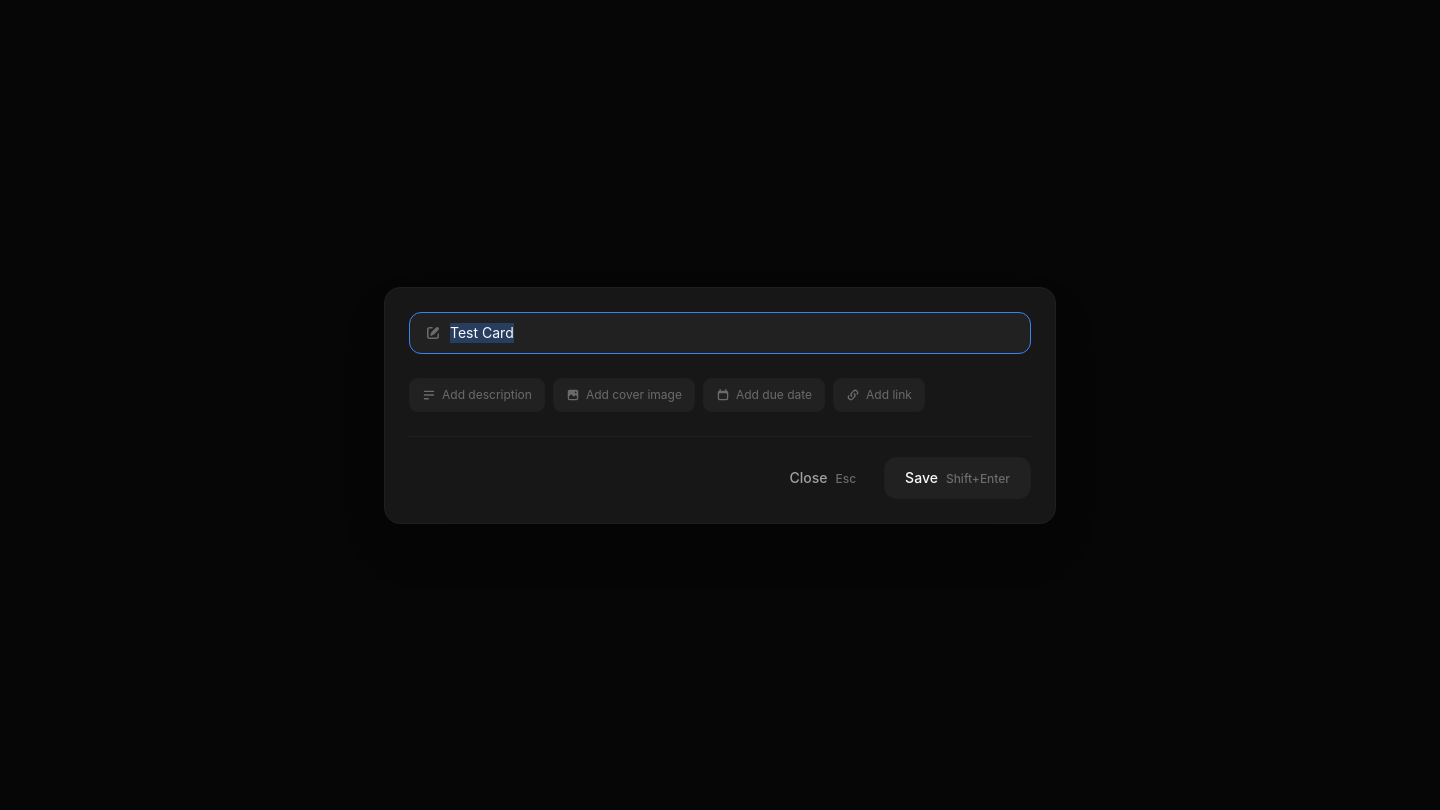
CardModal - markdown description › shows the editor immediately for a card with an empty description
Note: Expand the description field via its "Add description" button.
Click the button "Add description".
click(477, 394)  # box [409, 378, 545, 412]
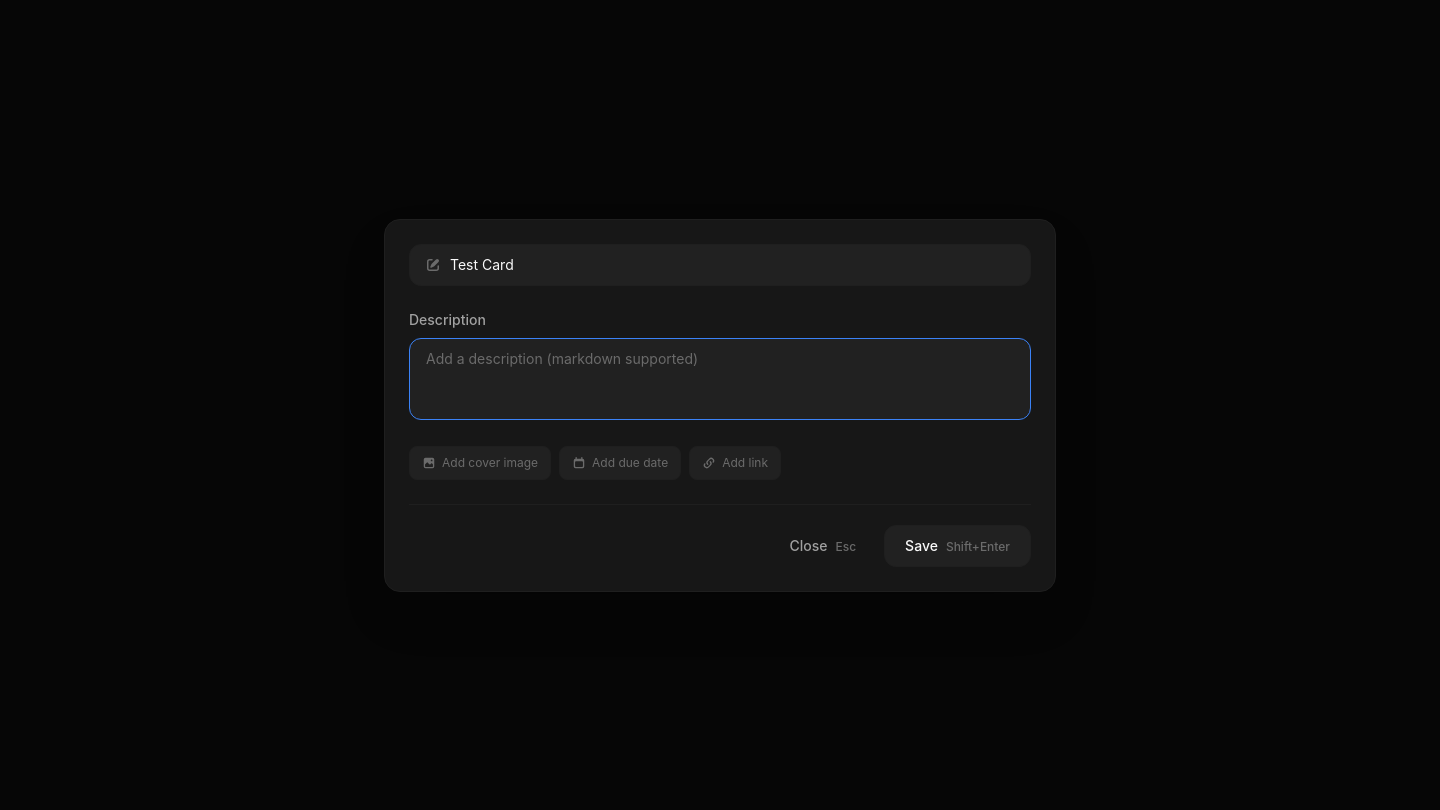
Result: the text box with placeholder "Add a description (markdown supported)" is shown at [409, 338, 1031, 420]
